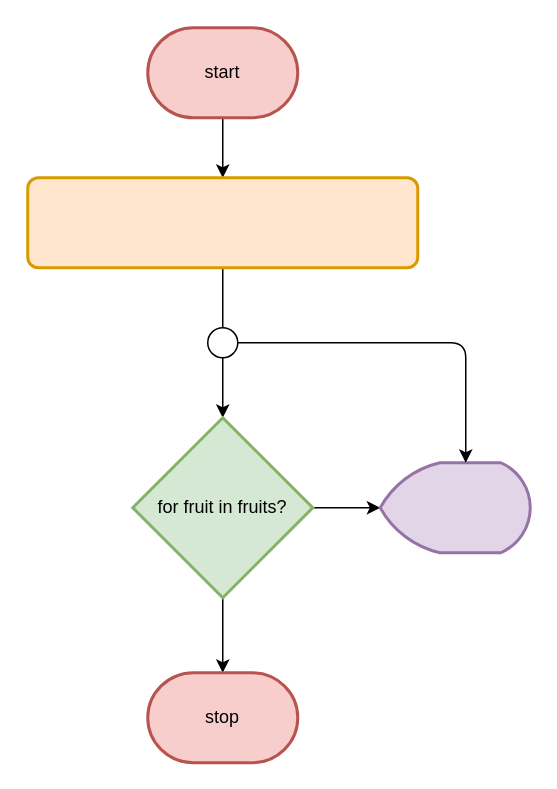
Some shapes in this 557 by 789 pixel diagram are drawn without their labels. The box of each missing label's shape, as (x1, y1, x2, y2) in pixels:
Display:fruit: (378, 460, 531, 554)
ftuits = ["apple" , "banana", "chery"]: (26, 176, 418, 268)
